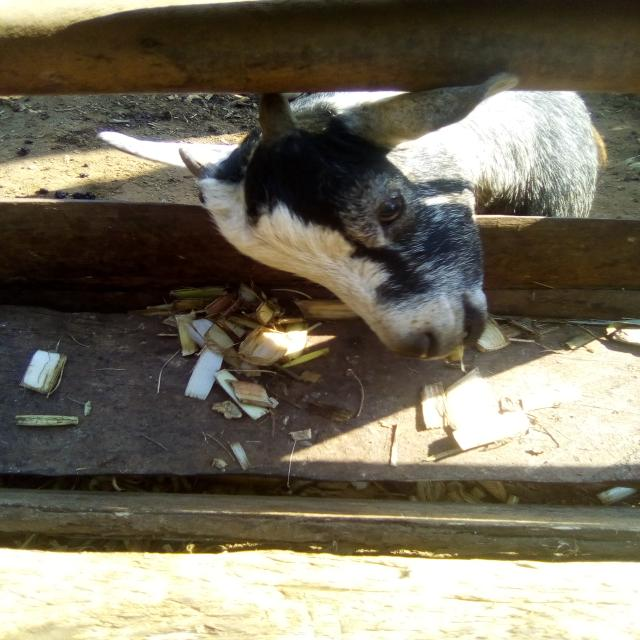goat: (64, 28, 640, 399)
